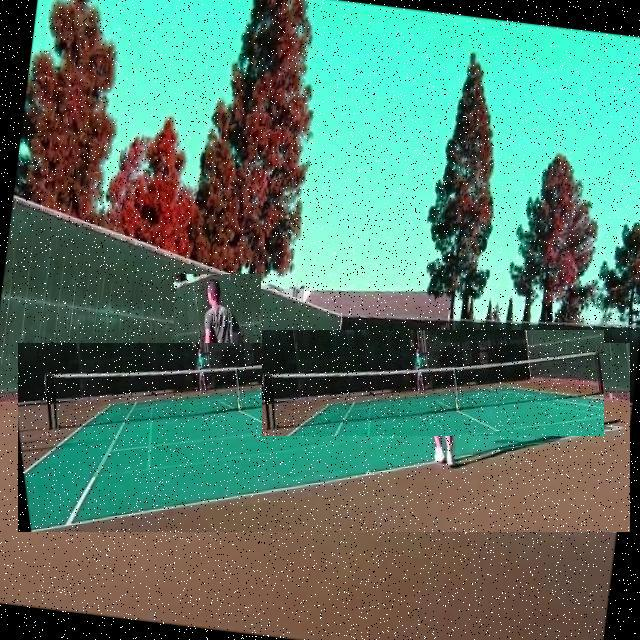court: (19, 343, 630, 532)
net: (262, 331, 604, 436)
player: (174, 274, 261, 473)
